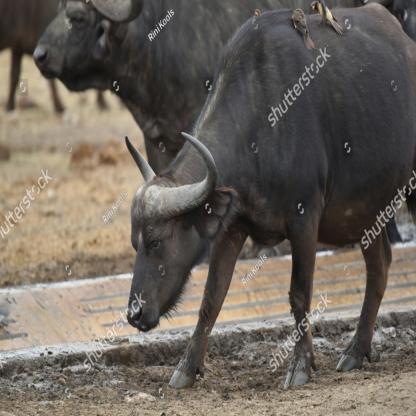buffalo: (132, 3, 416, 382), (32, 9, 226, 160)
